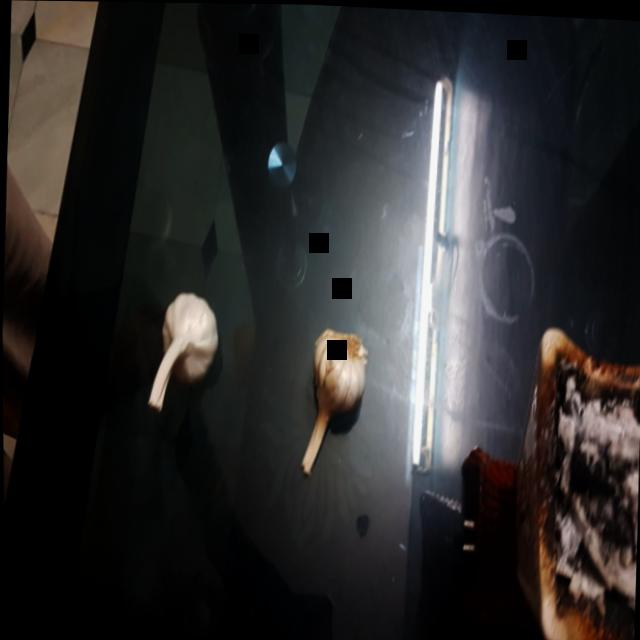garlic: (284, 316, 373, 481), (144, 281, 229, 423)
